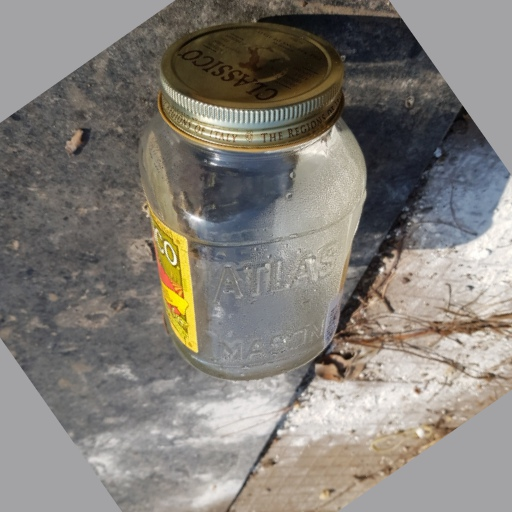Glass_5: (137, 21, 370, 385)
